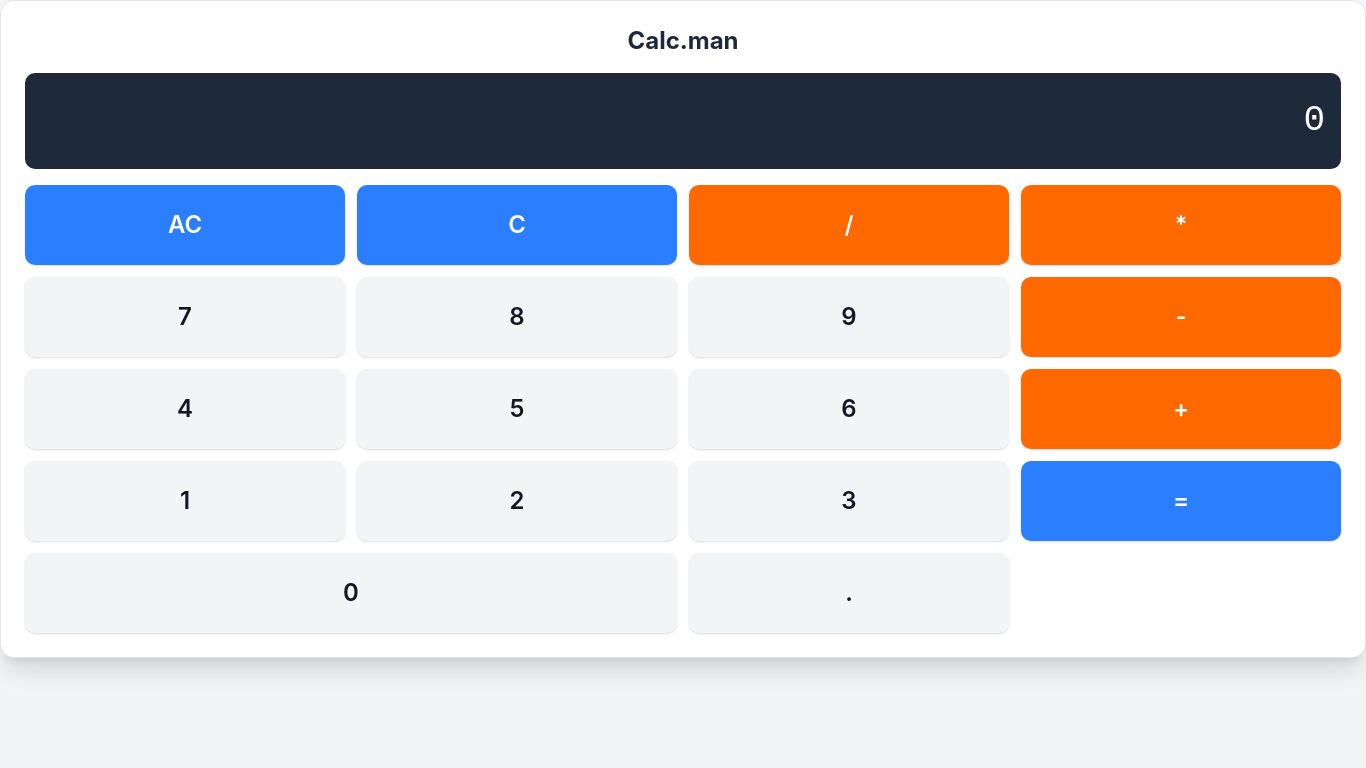
Test: Calculator Component › should display number when number button is clicked
Check: the element showing "0" is shown, box [25,73,1341,169]
Click the button "5" at coordinates (517, 409), box [357,369,677,449]
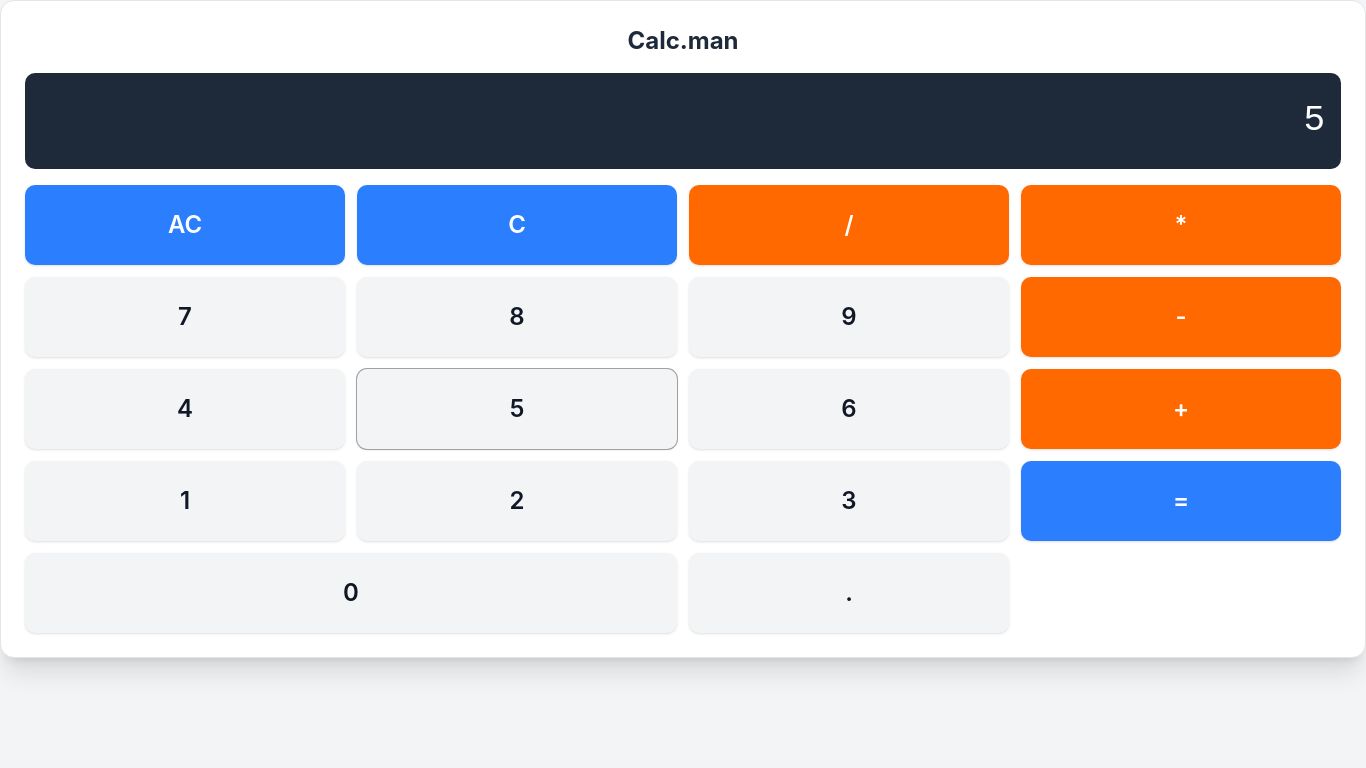
Check: the element showing "5" is shown, box [25,73,1341,169]
